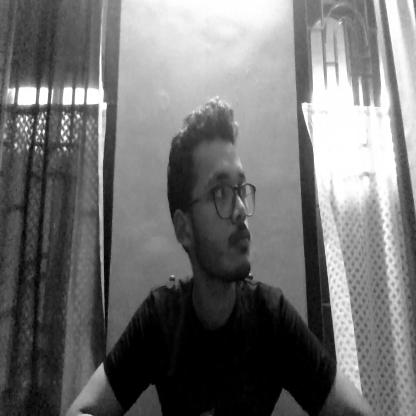Distracted: (160, 102, 264, 284)
